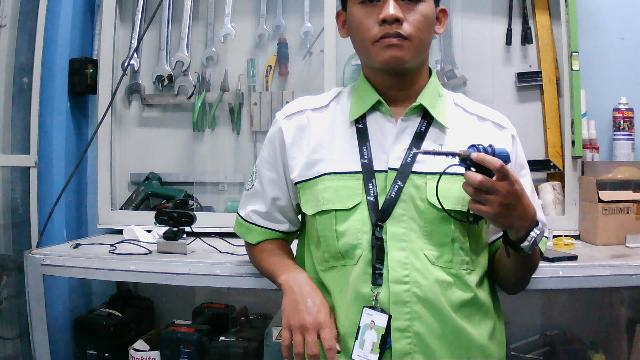solder_electrical: (412, 131, 514, 227)
